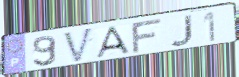1: (202, 10, 217, 44)
9: (31, 35, 57, 67)
A: (94, 24, 133, 60)
F: (130, 17, 164, 56)
J: (169, 13, 194, 48)
V: (62, 26, 95, 65)
